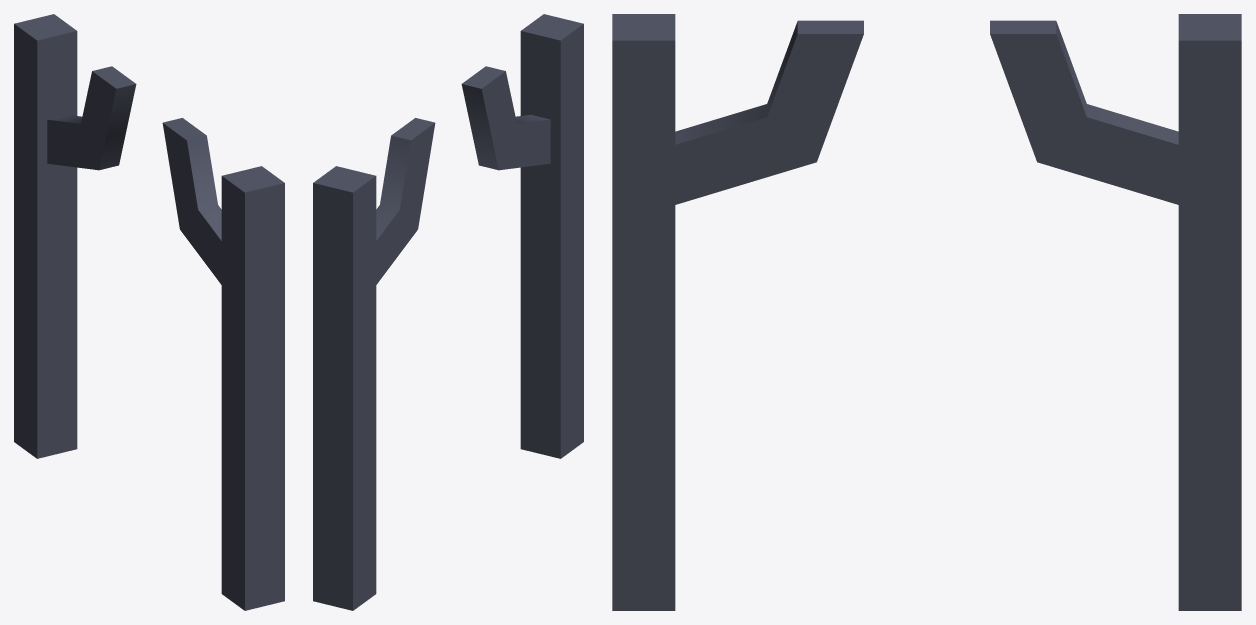
Rendered from balcony-wall.glb.
The picture shows the model from 3 angles, left to right: view 1: azimuth 30°, elevation 25°; view 2: azimuth 150°, elevation 25°; view 3: azimuth 270°, elevation 25°; orthographic projection. The views are drawn at different scales.
Parts seen in each view (by area): view 1: balcony-wall; view 2: balcony-wall; view 3: balcony-wall.
Boxes of the visible parts, bbox=[...] form: balcony-wall: bbox=[14, 14, 284, 610]; balcony-wall: bbox=[313, 14, 583, 610]; balcony-wall: bbox=[612, 14, 1241, 610].
Size of the model in its own units: 0.1 by 1 by 1.
Materials: 1 (1 with a texture image).
